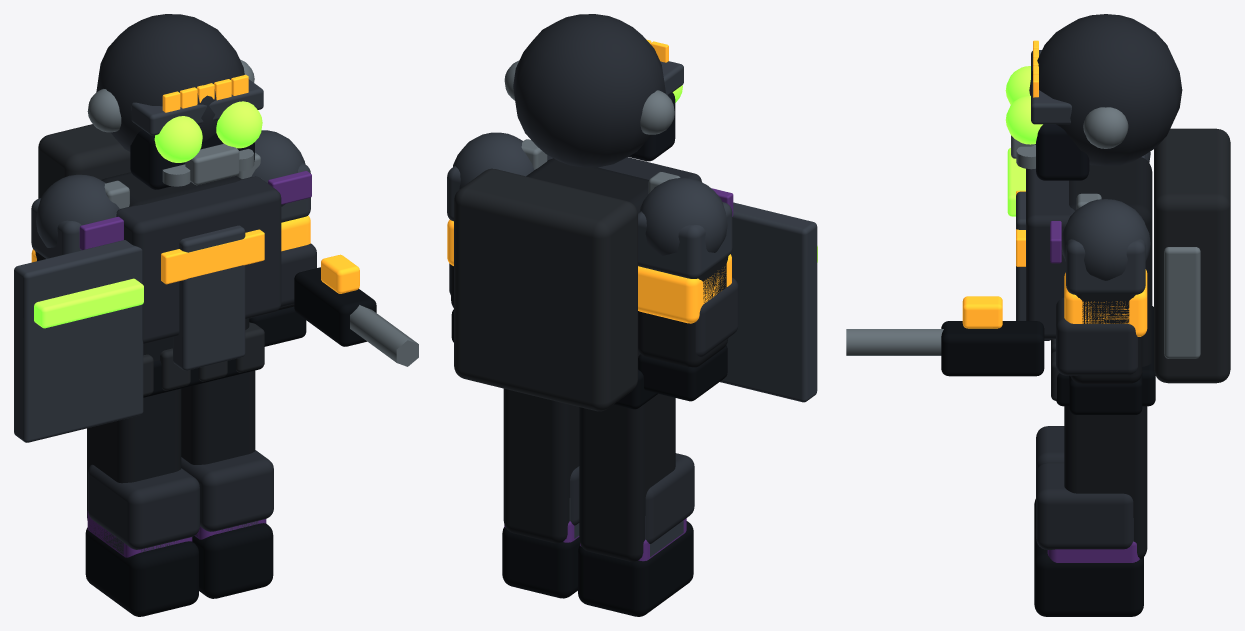
Rendered from assault_l05.glb.
3 views of the same model, side by side, from view 1: azimuth 30°, elevation 25°; view 2: azimuth 150°, elevation 25°; view 3: azimuth 270°, elevation 25° (orthographic). The views are drawn at different scales.
Visible parts, largest first — view 1: forearm_shield, segmented_vest, trouser (×2), shaped_knee_guard (×2), boot (×2), rounded_helmet, front_plate, shoulder_joint (×2), field_pack, carbine_body, shield_light, dzn_chest_flash (+18 smaller); view 2: field_pack, trouser (×2), rounded_helmet, forearm_shield, boot (×2), shoulder_joint (×2), shoulder_plate (×2), sleeve, shaped_knee_guard (×2), rank_stripe, glove, body (+6 smaller); view 3: field_pack, rounded_helmet, trouser, shaped_knee_guard (×2), boot, carbine_body, segmented_vest, shoulder_joint, forearm_plate, spare_magazine, body, shoulder_plate (+14 smaller).
Part boxes in pixels (x1=…): forearm_shield: x1=14, y1=240, x2=143, y2=442; segmented_vest: x1=116, y1=176, x2=281, y2=344; trouser (×2): x1=87, y1=370, x2=255, y2=520; shaped_knee_guard (×2): x1=88, y1=450, x2=273, y2=549; boot (×2): x1=85, y1=523, x2=273, y2=616; rounded_helmet: x1=96, y1=14, x2=244, y2=151; front_plate: x1=173, y1=225, x2=245, y2=370; shoulder_joint (×2): x1=36, y1=130, x2=305, y2=247; field_pack: x1=38, y1=124, x2=130, y2=198; carbine_body: x1=294, y1=267, x2=376, y2=346; shield_light: x1=34, y1=278, x2=143, y2=328; dzn_chest_flash: x1=161, y1=229, x2=264, y2=284; field_pack: x1=454, y1=168, x2=637, y2=411; trouser (×2): x1=503, y1=388, x2=675, y2=561; rounded_helmet: x1=513, y1=14, x2=665, y2=167; forearm_shield: x1=720, y1=202, x2=817, y2=402; boot (×2): x1=502, y1=521, x2=693, y2=616; shoulder_joint (×2): x1=453, y1=132, x2=727, y2=255; shoulder_plate (×2): x1=447, y1=166, x2=732, y2=278; sleeve: x1=638, y1=256, x2=728, y2=367; shaped_knee_guard (×2): x1=570, y1=453, x2=694, y2=543; rank_stripe: x1=638, y1=254, x2=731, y2=323; glove: x1=638, y1=345, x2=727, y2=401; body: x1=526, y1=158, x2=648, y2=357; field_pack: x1=1154, y1=128, x2=1230, y2=383; rounded_helmet: x1=1029, y1=14, x2=1182, y2=166; trouser: x1=1064, y1=406, x2=1147, y2=558; shaped_knee_guard (×2): x1=1036, y1=426, x2=1133, y2=549; boot: x1=1034, y1=535, x2=1143, y2=616; carbine_body: x1=941, y1=321, x2=1044, y2=376; segmented_vest: x1=1026, y1=168, x2=1074, y2=338; shoulder_joint: x1=1061, y1=199, x2=1150, y2=280; forearm_plate: x1=1056, y1=297, x2=1137, y2=375; spare_magazine: x1=1164, y1=247, x2=1200, y2=358; body: x1=1069, y1=157, x2=1152, y2=366; shoulder_plate: x1=1066, y1=220, x2=1145, y2=294.
Bounding box in the file's own units: 1.1 × 1.88 × 1.16.
